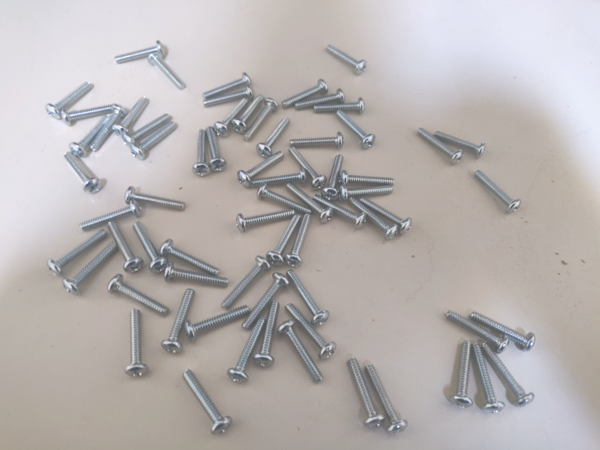longscrew: (284, 303, 338, 363), (280, 321, 328, 387), (49, 224, 107, 277), (484, 344, 532, 407), (178, 374, 228, 434), (105, 273, 170, 318), (284, 268, 331, 328), (369, 359, 406, 432), (344, 356, 381, 428), (448, 309, 509, 352), (65, 241, 117, 291), (162, 287, 200, 355), (474, 307, 535, 349), (242, 273, 286, 327), (474, 169, 524, 214), (229, 317, 263, 383), (346, 197, 397, 241), (361, 195, 412, 239), (224, 256, 267, 308), (162, 236, 222, 273), (186, 305, 249, 339), (80, 199, 144, 231), (312, 189, 364, 228), (107, 221, 143, 273), (476, 345, 502, 414), (132, 222, 165, 276), (130, 124, 179, 160), (449, 342, 474, 411), (48, 79, 89, 120), (420, 128, 463, 166), (235, 151, 283, 185), (289, 182, 330, 221), (69, 113, 106, 156), (266, 216, 299, 264), (127, 306, 148, 381), (325, 44, 374, 76), (122, 115, 174, 145), (259, 185, 311, 215), (159, 264, 228, 286), (112, 95, 148, 137), (126, 189, 188, 213), (430, 130, 488, 155), (62, 154, 100, 192), (214, 96, 251, 135), (231, 93, 268, 132), (243, 98, 280, 137), (92, 105, 122, 153), (202, 71, 255, 98), (203, 84, 256, 111), (337, 111, 375, 148), (258, 117, 294, 156), (289, 147, 323, 188), (235, 209, 300, 230), (260, 301, 279, 372), (60, 102, 118, 124), (287, 217, 311, 268), (297, 86, 348, 110), (148, 55, 184, 88), (282, 80, 326, 107), (114, 43, 161, 63), (193, 131, 211, 182), (207, 126, 225, 177), (326, 151, 344, 199), (312, 99, 368, 114), (249, 173, 308, 187), (339, 185, 399, 198), (339, 173, 399, 185), (286, 135, 350, 146)
